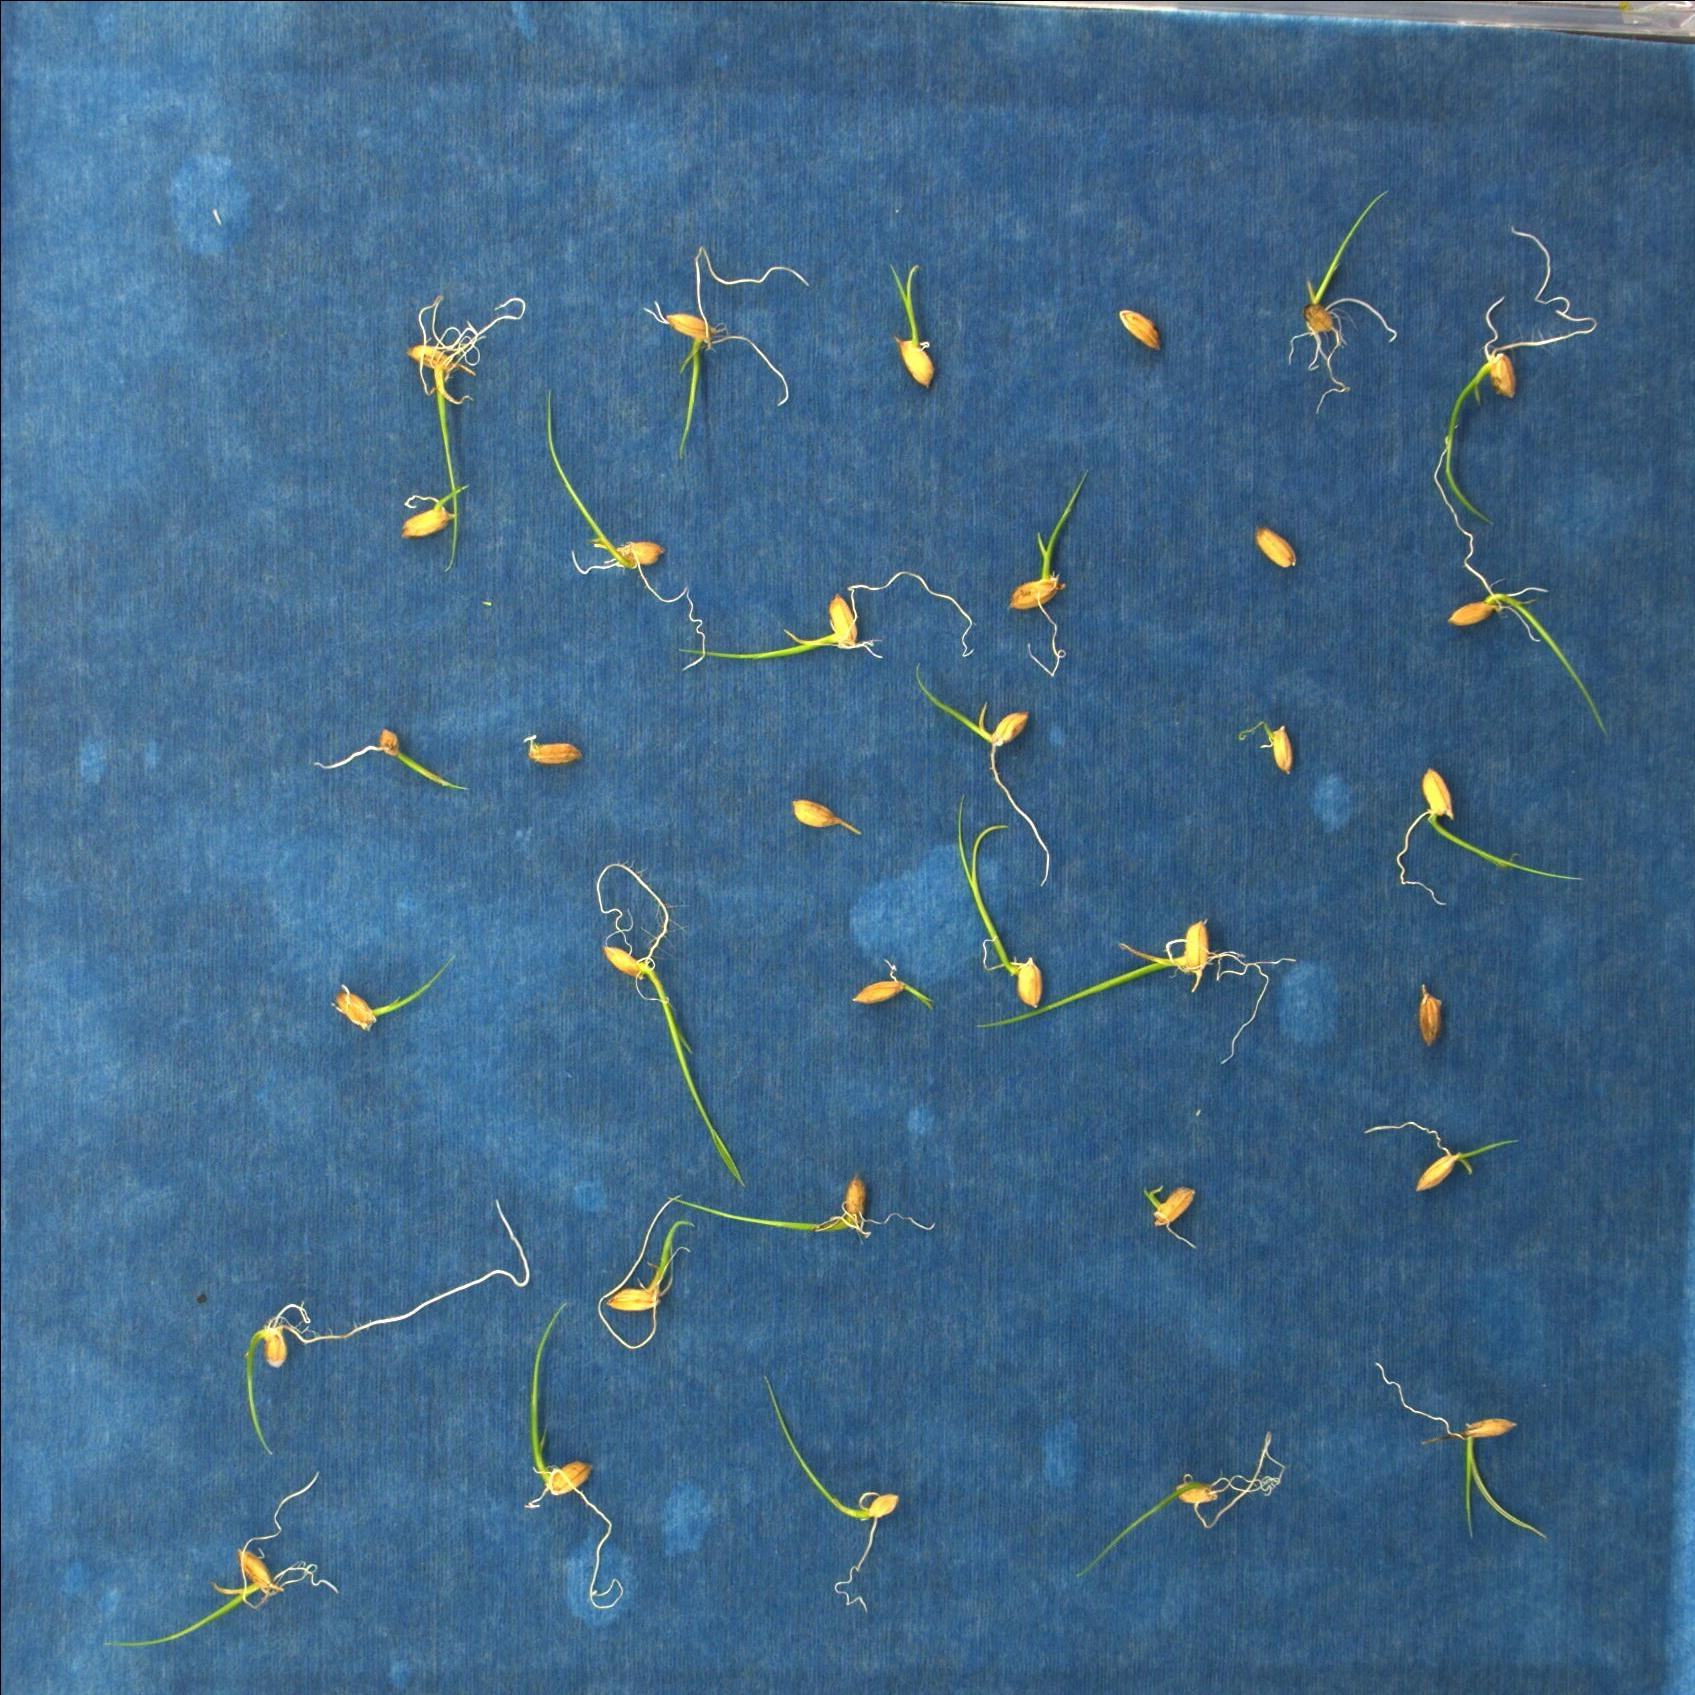not sprout: (1248, 518, 1301, 571), (1114, 303, 1166, 355), (1412, 984, 1445, 1049), (522, 733, 585, 765)
sprout: (245, 1198, 532, 1458), (1440, 433, 1613, 737), (594, 861, 750, 1192), (1439, 216, 1596, 528), (973, 919, 1298, 1063), (543, 393, 705, 675), (106, 1473, 340, 1652), (644, 244, 809, 458), (405, 290, 528, 573), (1074, 1426, 1288, 1583), (759, 1375, 900, 1613), (1375, 1360, 1548, 1541), (913, 663, 1052, 886), (526, 1299, 624, 1613), (683, 565, 976, 661), (1394, 768, 1586, 905), (1285, 189, 1402, 414), (951, 789, 1043, 1007), (1006, 466, 1088, 678), (666, 1180, 934, 1243), (599, 1197, 692, 1354), (314, 726, 475, 796), (328, 948, 459, 1034), (1367, 1122, 1516, 1197), (885, 261, 938, 388), (844, 958, 938, 1015), (1136, 1180, 1205, 1253), (402, 483, 475, 542), (785, 795, 865, 840), (1236, 719, 1295, 775)
